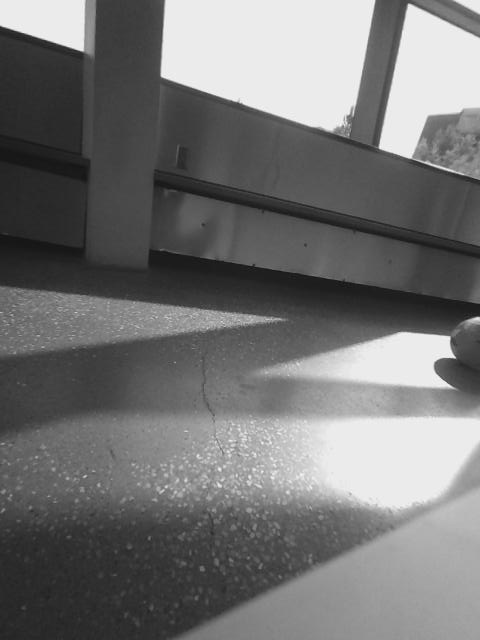ball: (448, 305, 480, 375)
